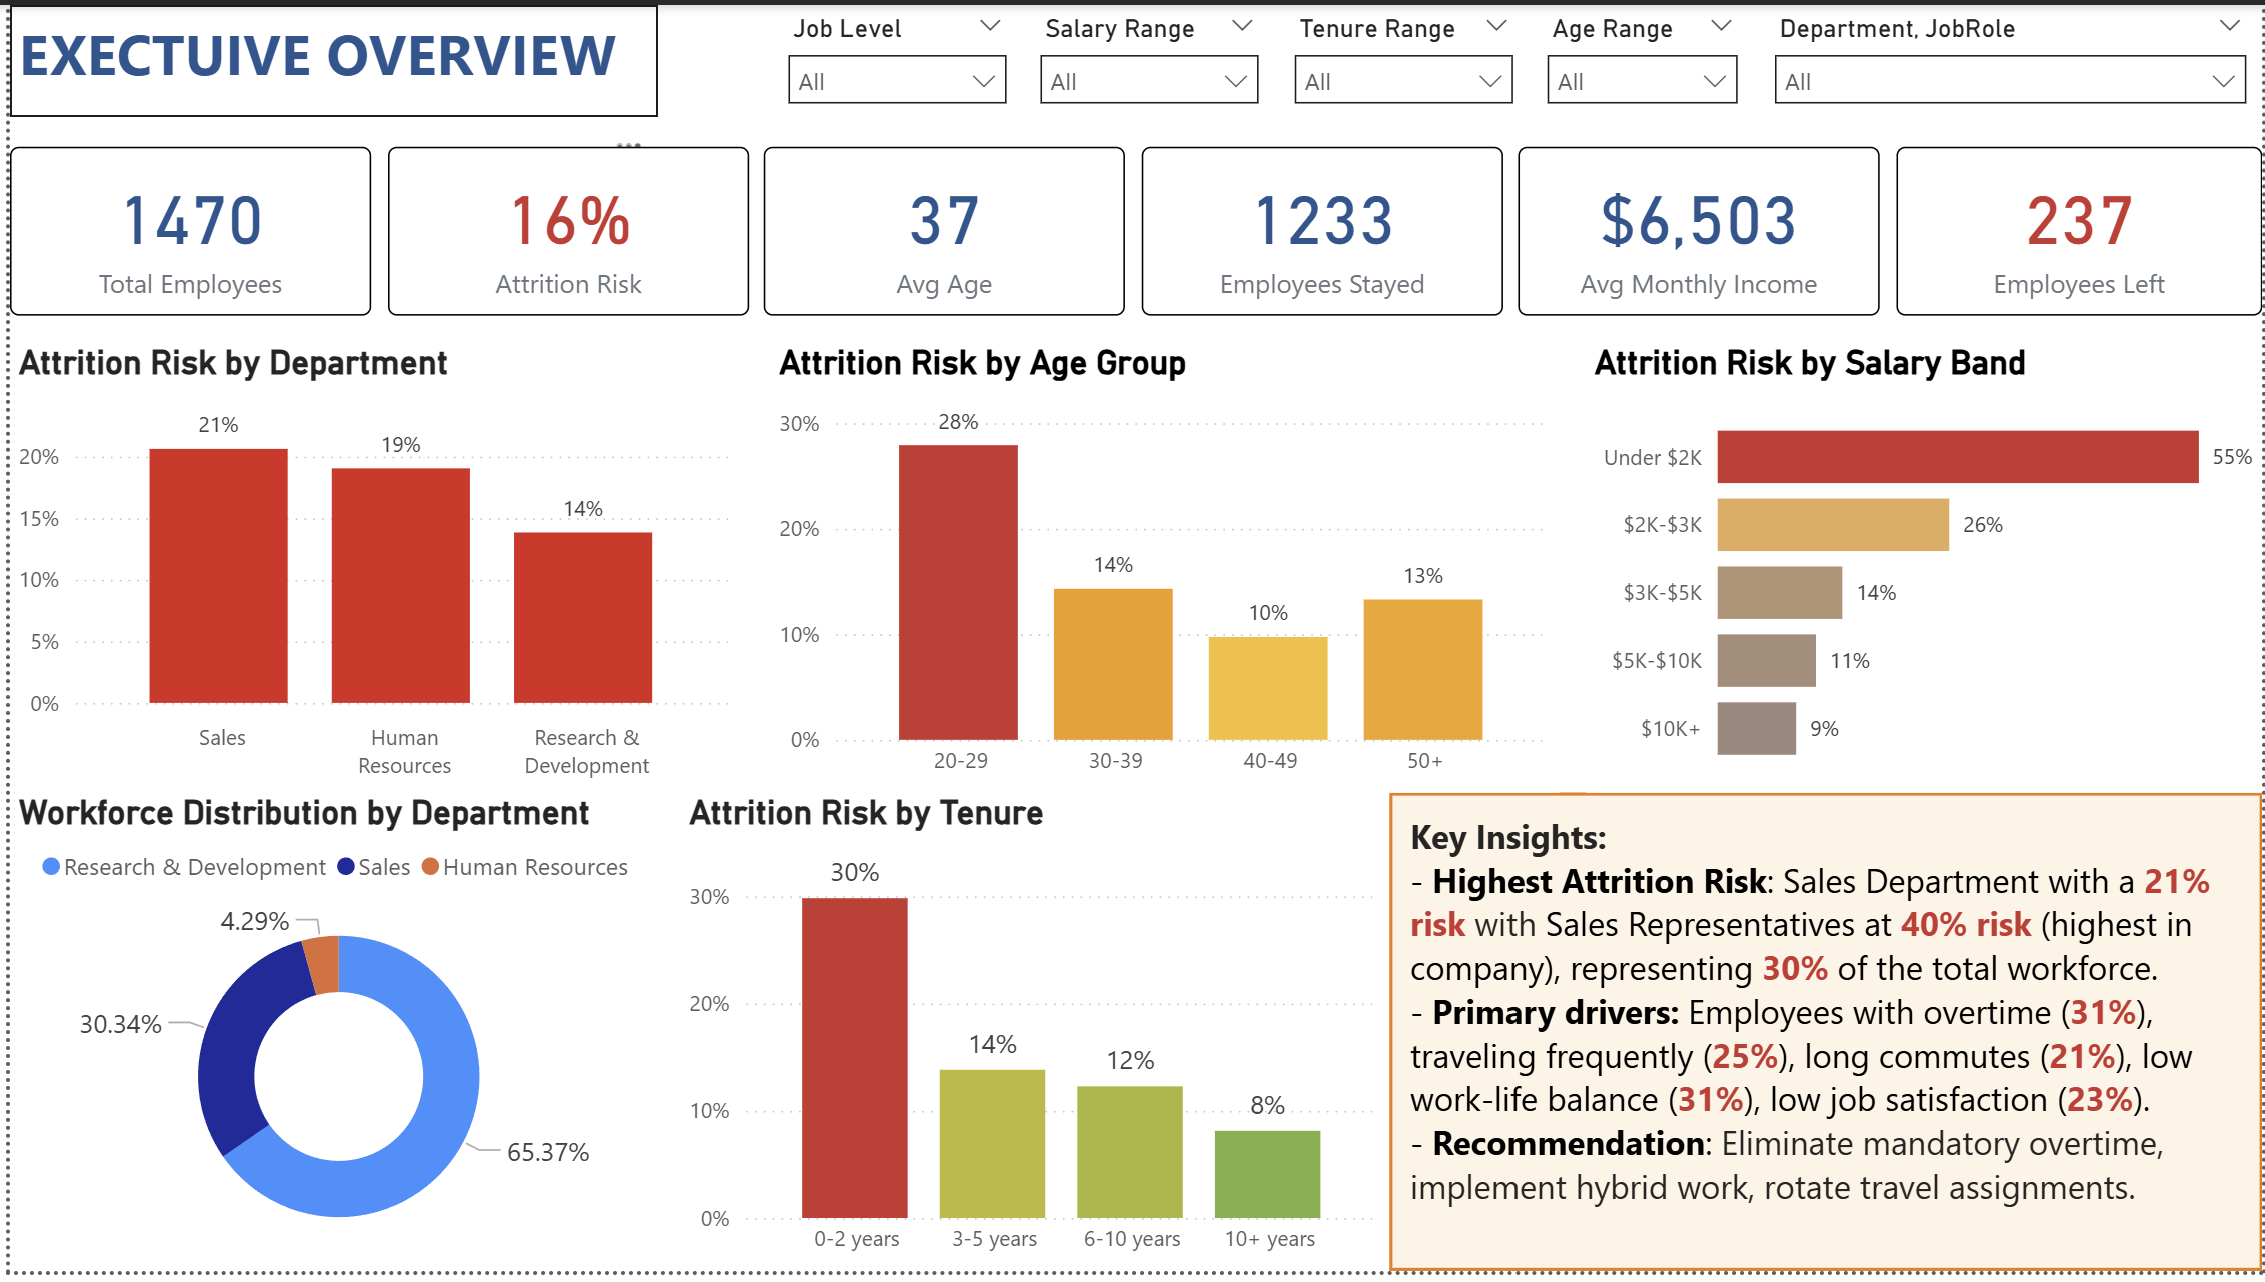

The dashboard page shown, as its layout file describes it:
{"tool":"powerbi","page":{"name":"EXECUTIVE OVERVIEW","canvas":[1280,720],"ordinal":0},"visuals":[{"type":"textbox","box":[0,0,368,64],"z":0},{"type":"card","fields":{"Values":["Turnover.Total Employees"]},"box":[0,80,205.3,96],"z":1000,"group":"g3"},{"type":"textbox","box":[784,448,496,272],"z":1000},{"type":"card","fields":{"Values":["Turnover.Attrition Risk"]},"box":[214.4,80,205.3,96],"z":2000,"group":"g3"},{"type":"group","id":"g1","title":"Group 1","box":[0,192,1280,256],"z":2000},{"type":"card","fields":{"Values":["Turnover.Avg Age"]},"box":[428.8,80,205.3,96],"z":3000,"group":"g3"},{"type":"group","id":"g2","title":"Group 2","box":[0,448,784,272],"z":3000},{"type":"group","id":"g3","title":"Group 3","box":[0,80,1280,96],"z":4000},{"type":"card","fields":{"Values":["Turnover.Employees Stayed"]},"box":[643.2,80,205.3,96],"z":4000,"group":"g3"},{"type":"slicer","fields":{"Values":["Turnover.Age Group"]},"box":[864,0,128,64],"z":5000},{"type":"card","fields":{"Values":["Turnover.Employees Left"]},"box":[1072,80,208,96],"z":5000,"group":"g3"},{"type":"slicer","fields":{"Values":["Turnover.Tenure Group"]},"box":[720,0,144,64],"z":6000},{"type":"card","fields":{"Values":["Turnover.Avg Monthly Income"]},"box":[857.6,80,205.3,96],"z":6000,"group":"g3"},{"type":"slicer","fields":{"Values":["Turnover.Department","Turnover.JobRole"]},"box":[992,0,288,64],"z":7000},{"type":"clusteredColumnChart","fields":{"Category":["Turnover.Department"],"Y":["Turnover.Attrition Risk"]},"box":[0,192,416,256],"z":7000,"group":"g1"},{"type":"donutChart","title":"Workforce Distribution by Department","fields":{"Category":["Turnover.Department"],"Y":["Turnover.Total Employees"]},"box":[0,448,374,272],"z":7000,"group":"g2"},{"type":"slicer","fields":{"Values":["Turnover.Salary Band"]},"box":[576,0,144,64],"z":8000},{"type":"clusteredColumnChart","fields":{"Category":["Turnover.Age Group"],"Y":["Turnover.Attrition Risk"]},"box":[432,192,448,256],"z":8000,"group":"g1"},{"type":"clusteredColumnChart","title":"Attrition Risk by Tenure","fields":{"Category":["Turnover.Tenure Group"],"Y":["Turnover.Attrition Risk"]},"box":[381.2,448,402.8,272],"z":8000,"group":"g2"},{"type":"slicer","fields":{"Values":["Turnover.Job Level Text"]},"box":[432,0,144,64],"z":9000},{"type":"clusteredBarChart","fields":{"Category":["Turnover.Salary Band"],"Y":["Turnover.Attrition Risk"]},"box":[896,192,384,256],"z":9000,"group":"g1"}]}

Visuals, with their boxes in screenshot pixels (x1, y1, x2, y2), scaled from the page's 1280x720 canvas onto the 2265x1282 screenshot:
textbox: left=0, top=0, right=651, bottom=114
card - Turnover.Total Employees: left=0, top=142, right=363, bottom=313
textbox: left=1387, top=798, right=2264, bottom=1281
card - Turnover.Attrition Risk: left=379, top=142, right=743, bottom=313
"Group 1" group: left=0, top=342, right=2264, bottom=798
card - Turnover.Avg Age: left=759, top=142, right=1122, bottom=313
"Group 2" group: left=0, top=798, right=1387, bottom=1281
"Group 3" group: left=0, top=142, right=2264, bottom=313
card - Turnover.Employees Stayed: left=1138, top=142, right=1501, bottom=313
slicer - Turnover.Age Group: left=1529, top=0, right=1755, bottom=114
card - Turnover.Employees Left: left=1897, top=142, right=2264, bottom=313
slicer - Turnover.Tenure Group: left=1274, top=0, right=1529, bottom=114
card - Turnover.Avg Monthly Income: left=1518, top=142, right=1881, bottom=313
slicer - Turnover.Department x Turnover.JobRole: left=1755, top=0, right=2264, bottom=114
clusteredColumnChart - Turnover.Department x Turnover.Attrition Risk: left=0, top=342, right=736, bottom=798
"Workforce Distribution by Department" donutChart: left=0, top=798, right=662, bottom=1281
slicer - Turnover.Salary Band: left=1019, top=0, right=1274, bottom=114
clusteredColumnChart - Turnover.Age Group x Turnover.Attrition Risk: left=764, top=342, right=1557, bottom=798
"Attrition Risk by Tenure" clusteredColumnChart: left=675, top=798, right=1387, bottom=1281
slicer - Turnover.Job Level Text: left=764, top=0, right=1019, bottom=114
clusteredBarChart - Turnover.Salary Band x Turnover.Attrition Risk: left=1586, top=342, right=2264, bottom=798
